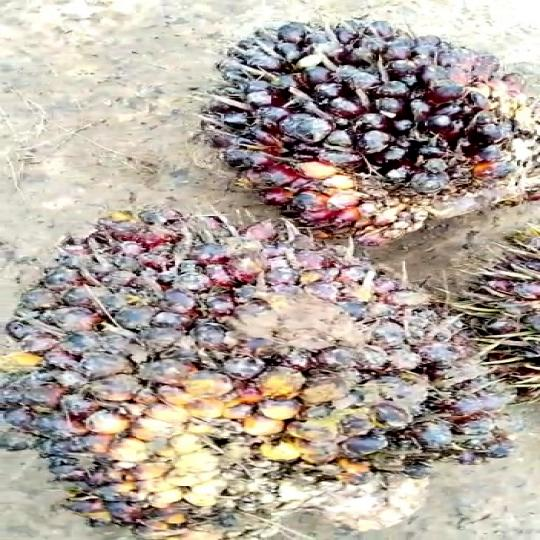kurang masak: (0, 206, 514, 540), (176, 14, 540, 223)
